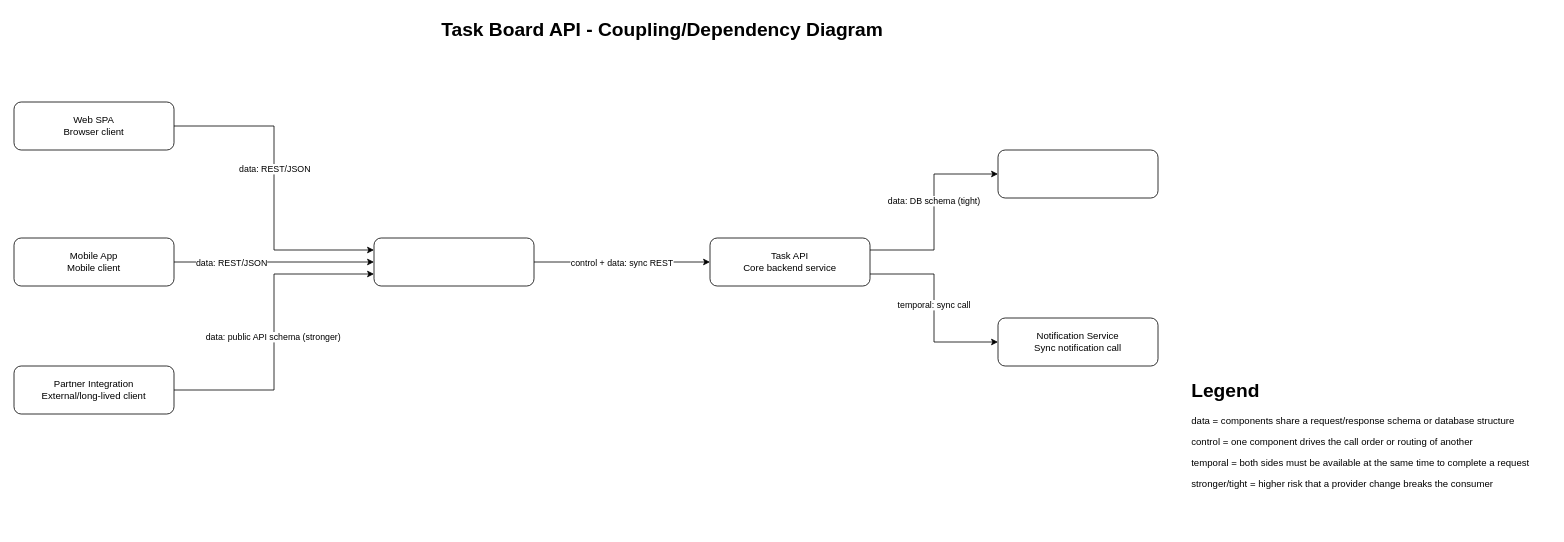
Some shapes in this 1564 by 542 pixel diagram are drawn without their labels. The centre of each missing label's shape, as x and y in pixels:
"API Gateway Public entry point" belongs at (453,261).
"Task Store Database" belongs at (1077,173).
